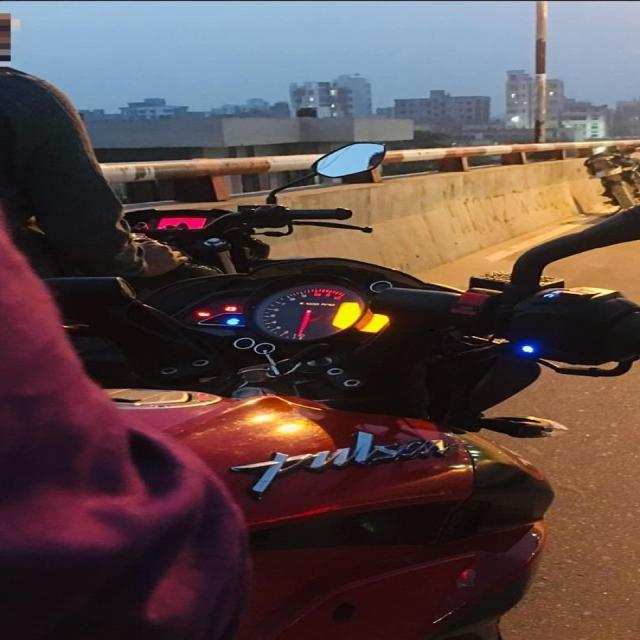Motorbike: (1, 218, 640, 640), (1, 122, 407, 534)
